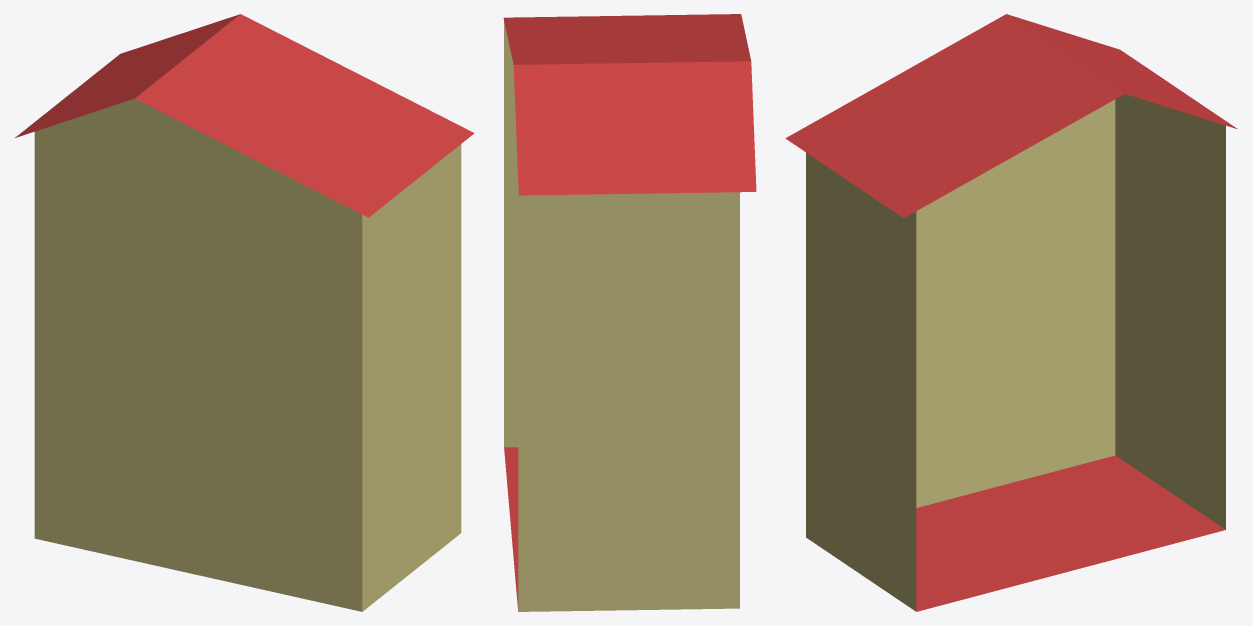
The picture shows the model from 3 angles, left to right: view 1: azimuth 30°, elevation 25°; view 2: azimuth 150°, elevation 25°; view 3: azimuth 270°, elevation 25°; orthographic projection. The views are drawn at different scales.
Size of the model in its own units: 6.68 by 7.59 by 8.54.
